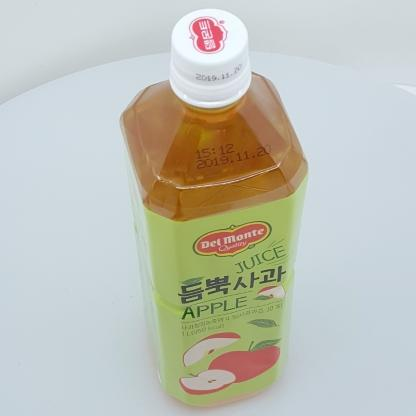----------1L: (119, 9, 308, 407)
